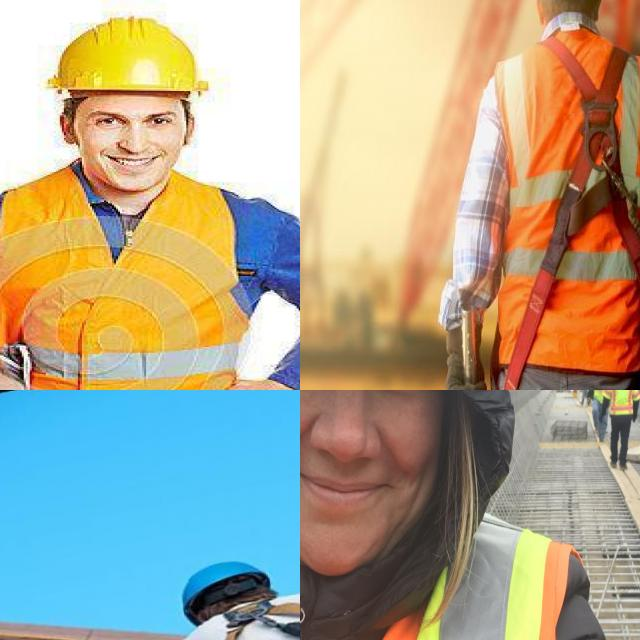Harness: (504, 37, 640, 390)
face_nomask: (300, 390, 474, 564), (60, 92, 210, 198)
hand_noglove: (0, 346, 53, 390), (224, 362, 300, 390)
head_helmet: (42, 13, 208, 97)
person: (0, 12, 300, 390), (300, 390, 632, 640), (609, 390, 640, 467), (591, 390, 610, 439)
vest: (0, 167, 298, 390), (609, 390, 640, 418), (589, 390, 612, 401)
